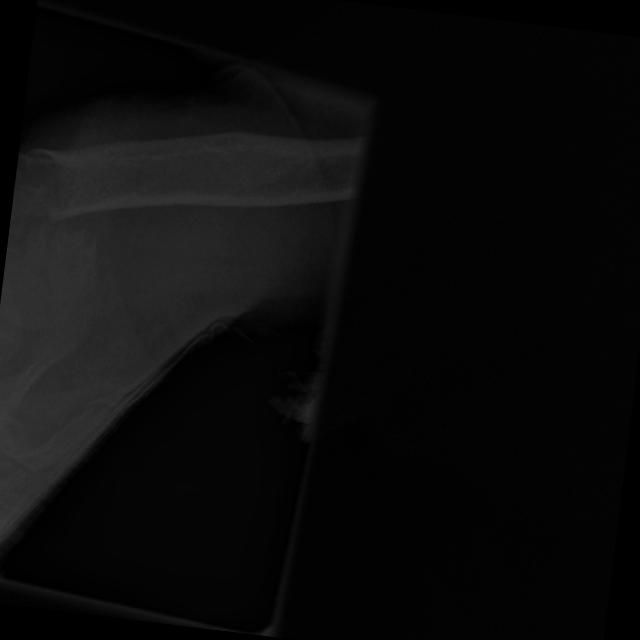shoulder fracture: (0, 122, 121, 307)
